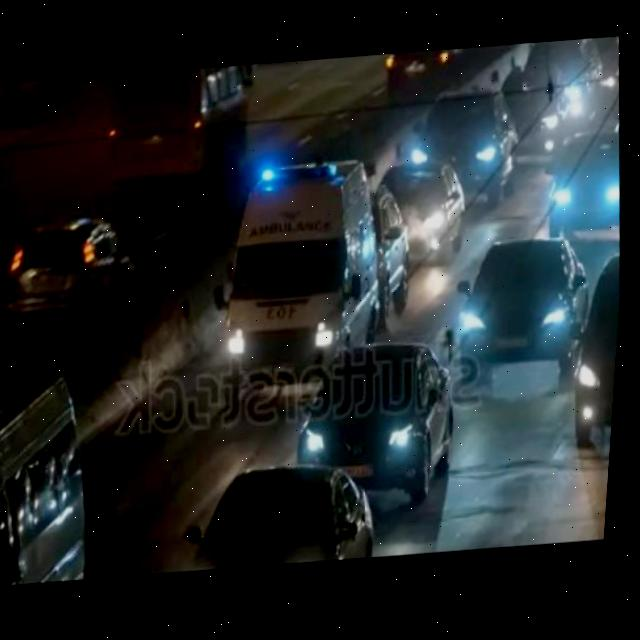emergency: (206, 149, 388, 364)
